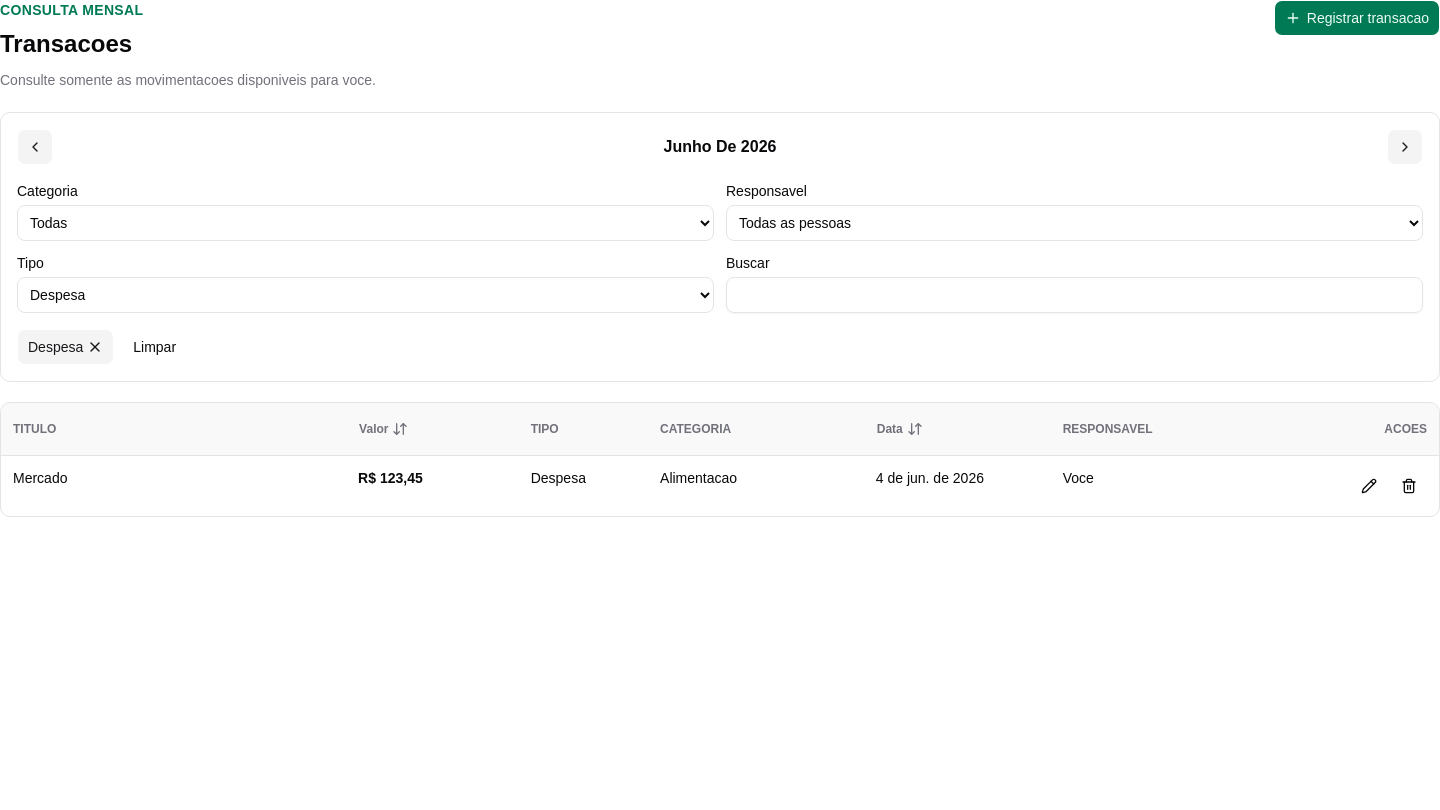
Test: TransactionsPage › composes a mobile-safe authenticated monthly consultation from URL filters
expect the heading "Transacoes" is shown: met, box [0,30,132,57]
expect the text "junho de 2026" is shown: met, box [664,135,776,159]
Click the button "Registrar transacao": {"x": 1357, "y": 18} [1274,0,1439,36]
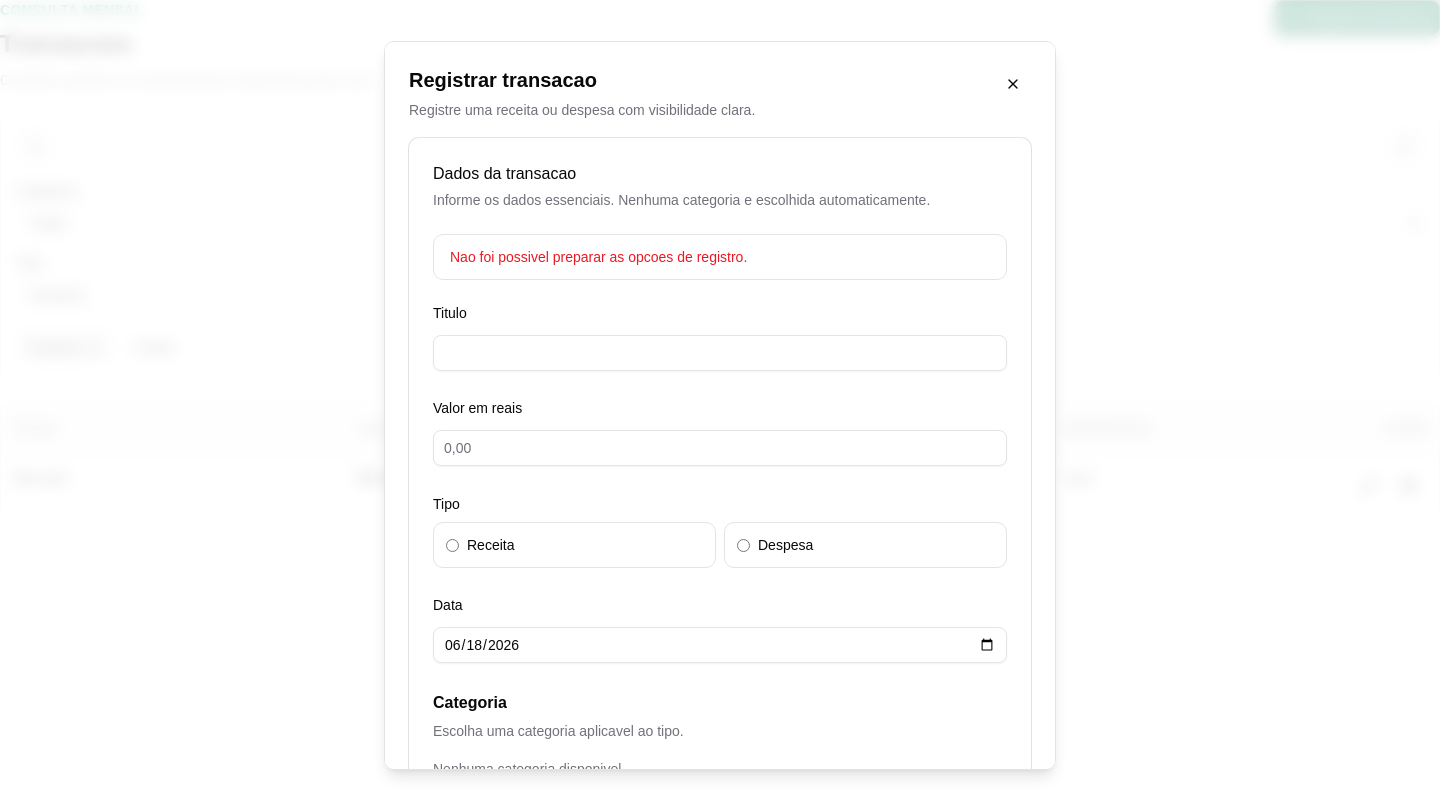
expect the dialog "Registrar transacao" is shown: met, box [384,40,1056,770]
expect the text "Dados da transacao" is shown: met, box [433,164,576,182]
